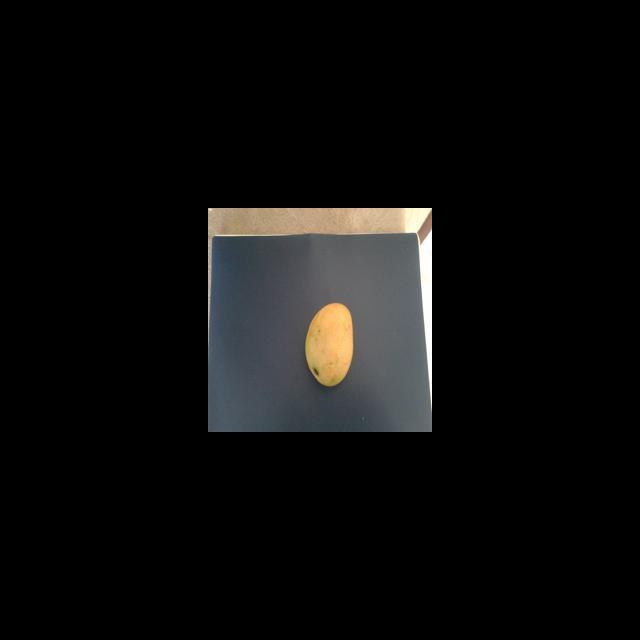Mango: (304, 302, 353, 387)
